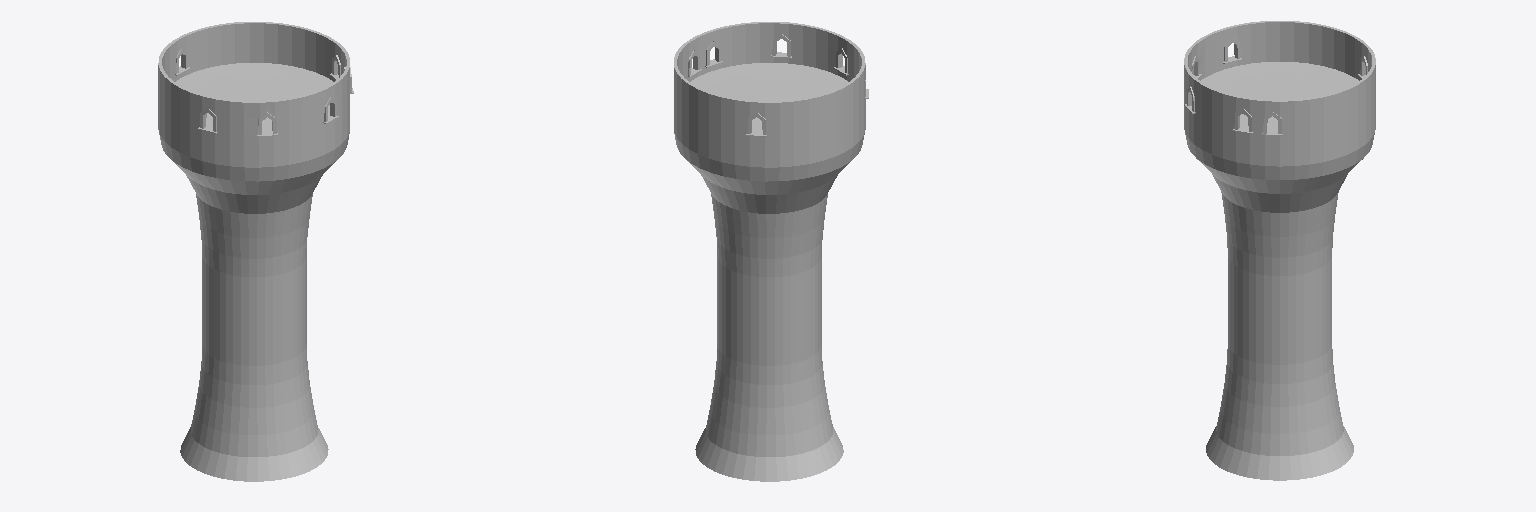
Rendered from tower_03.obj.
3 renders of one model, left to right at view 1: azimuth 30°, elevation 25°; view 2: azimuth 150°, elevation 25°; view 3: azimuth 270°, elevation 25°, orthographic.
Visible parts, largest first — view 1: tower tower_wall; view 2: tower tower_wall; view 3: tower tower_wall.
Boxes of the visible parts, x1=… form: tower tower_wall: x1=158, y1=22, x2=349, y2=481; tower tower_wall: x1=674, y1=22, x2=865, y2=481; tower tower_wall: x1=1184, y1=21, x2=1375, y2=480.
Size of the model in its own units: 26.47 by 57.9 by 25.99.